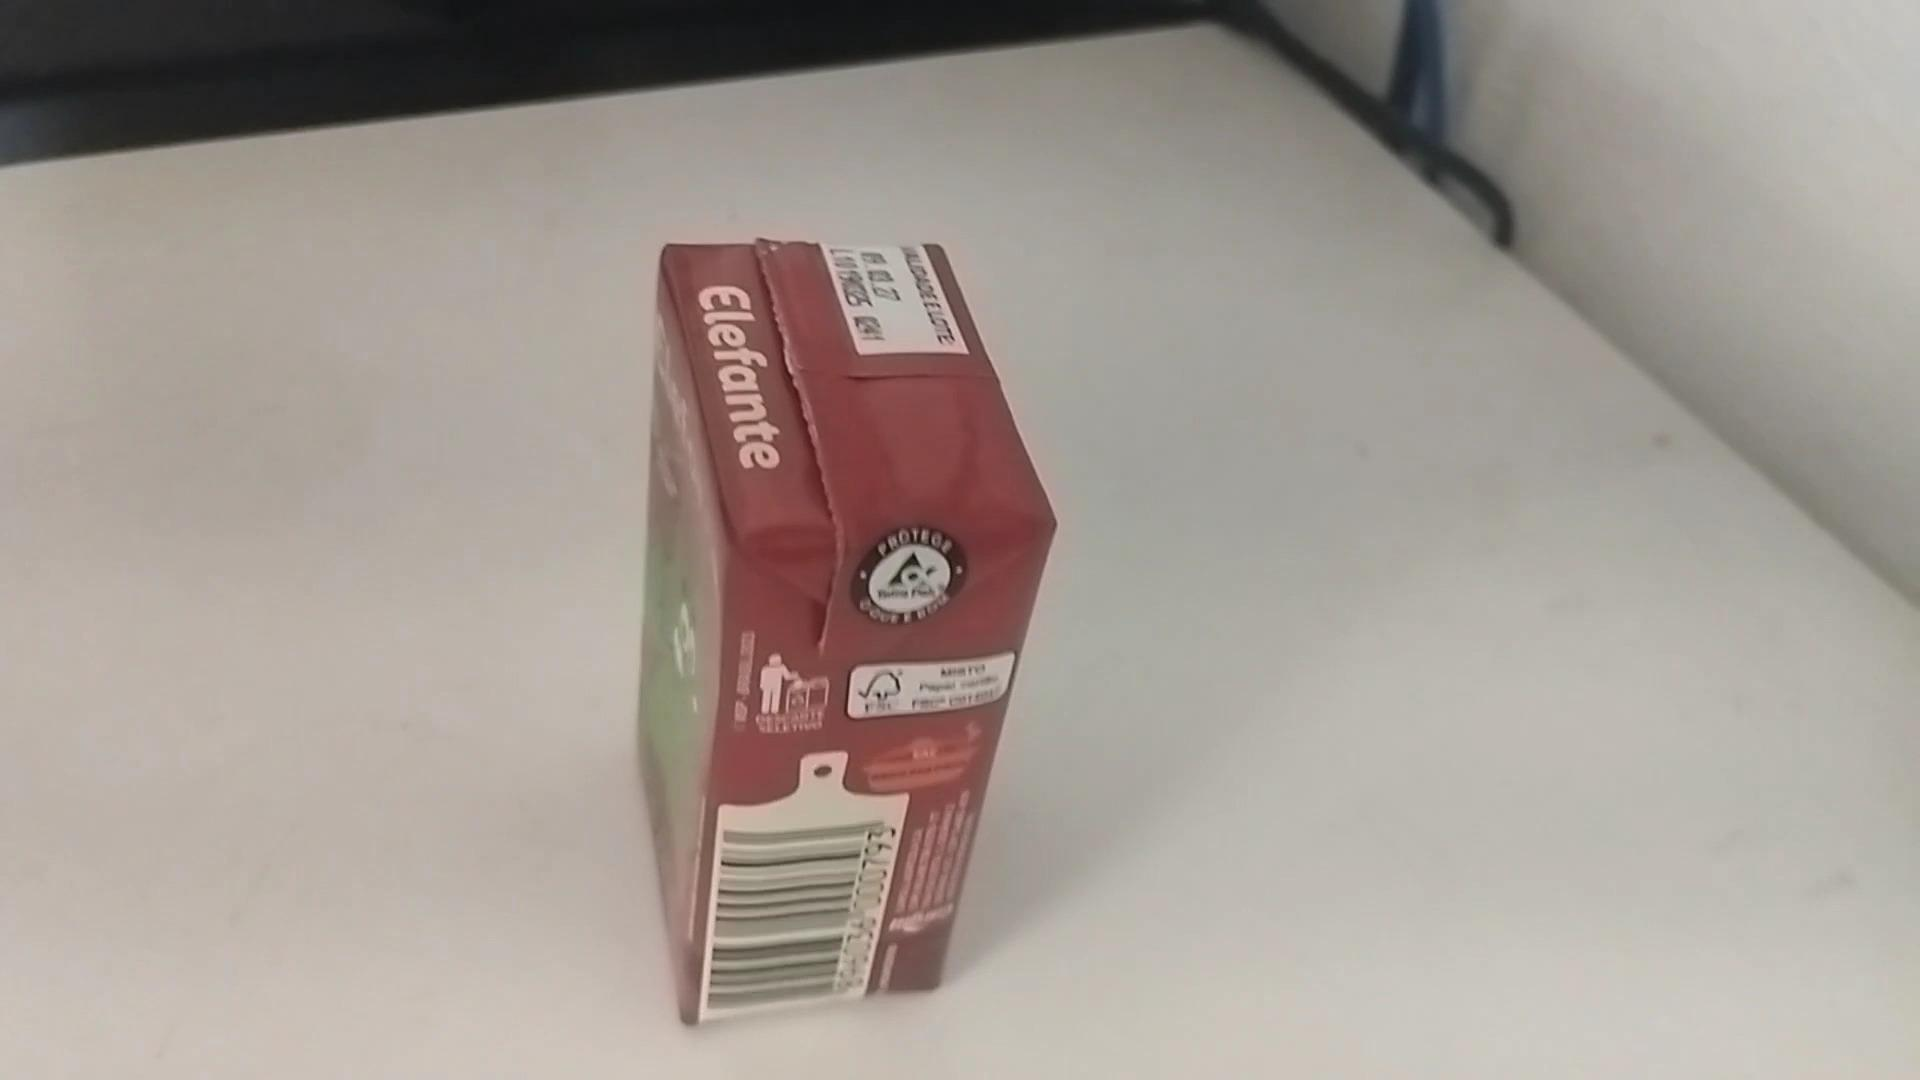tomate: (618, 222, 1076, 1027)
